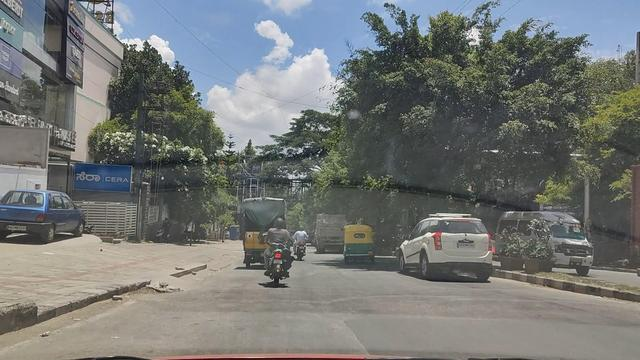HMV: (494, 193, 603, 281), (235, 193, 293, 271), (303, 200, 354, 266)
